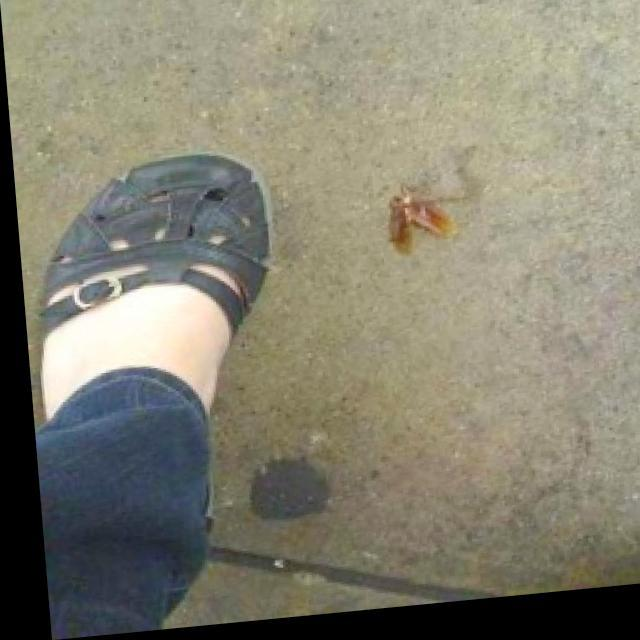cockroach: (374, 180, 458, 266)
